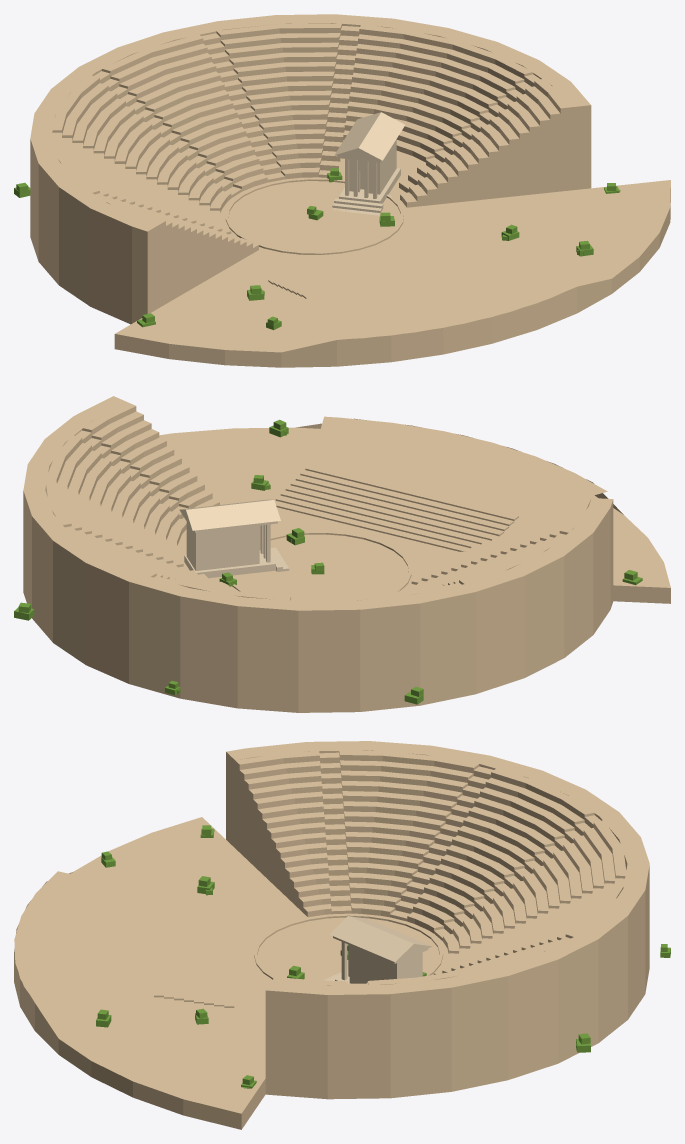
Rendered from Amphitheater.fbx.
3 views of the same model, one above another, from view 1: azimuth 30°, elevation 25°; view 2: azimuth 150°, elevation 25°; view 3: azimuth 270°, elevation 25° (orthographic). The views are drawn at different scales.
Parts seen in each view (by area): view 1: Amphitheater, Bushes; view 2: Amphitheater, Bushes; view 3: Amphitheater, Bushes.
Part boxes in pixels (x1,y1,x2,y2): Amphitheater: (30, 14, 670, 367); Bushes: (14, 168, 620, 330); Amphitheater: (23, 396, 670, 712); Bushes: (14, 419, 642, 704); Amphitheater: (14, 741, 649, 1129); Bushes: (96, 825, 670, 1088).
Size of the model in its own units: 126 by 20.6 by 118.
